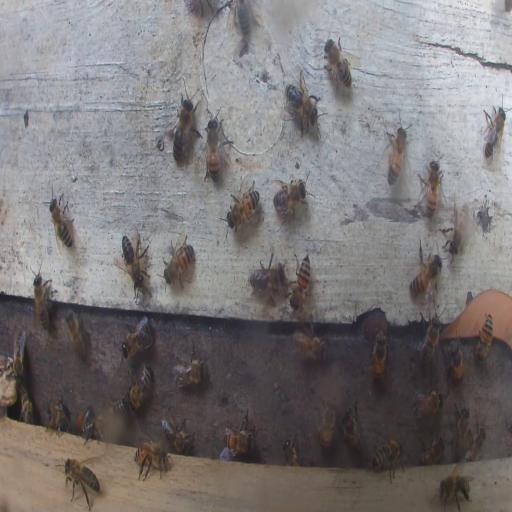bee: (282, 70, 322, 132), (169, 90, 200, 166), (163, 234, 196, 290), (409, 243, 441, 299), (249, 250, 284, 301), (62, 458, 99, 506), (323, 34, 354, 91), (120, 230, 149, 290), (416, 157, 444, 218), (272, 176, 311, 219), (481, 104, 507, 166), (434, 472, 473, 512), (48, 191, 74, 250), (372, 436, 404, 482), (289, 253, 313, 313), (133, 438, 168, 479), (442, 201, 468, 256), (31, 266, 53, 331), (417, 312, 442, 369), (386, 119, 407, 185), (220, 419, 254, 459), (161, 413, 194, 453), (121, 316, 154, 356), (228, 188, 259, 230), (172, 350, 206, 388), (126, 364, 154, 408), (292, 329, 327, 363), (66, 308, 88, 361), (340, 403, 362, 455), (412, 385, 443, 418), (206, 117, 220, 184), (370, 331, 388, 383), (444, 339, 464, 385), (475, 314, 494, 362), (418, 432, 446, 464), (319, 399, 336, 450), (79, 410, 106, 442), (464, 422, 486, 460), (45, 402, 69, 436), (237, 0, 253, 48), (456, 406, 470, 450), (282, 438, 303, 467), (12, 330, 25, 376), (75, 407, 95, 436), (19, 388, 34, 423)
